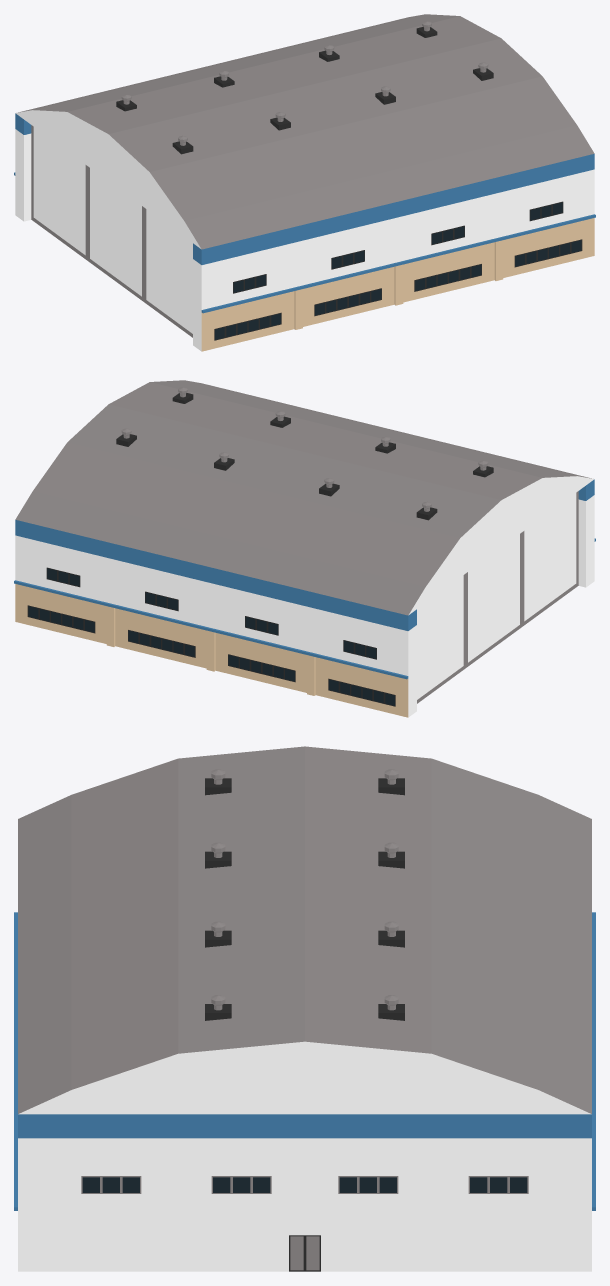
Rendered from airport-hangar.glb.
3 renders of one model, top to bottom at view 1: azimuth 30°, elevation 25°; view 2: azimuth 150°, elevation 25°; view 3: azimuth 270°, elevation 25°, orthographic. The views are drawn at different scales.
Visible parts, largest first — view 1: airport-hangar; view 2: airport-hangar; view 3: airport-hangar.
Boxes of the visible parts, x1,y1,x2,y2 form: airport-hangar: (14,14,595,351); airport-hangar: (14,380,595,717); airport-hangar: (14,746,595,1271).
Size of the model in its own units: 52.33 by 19.94 by 43.6.
1 material, 1 textured.
